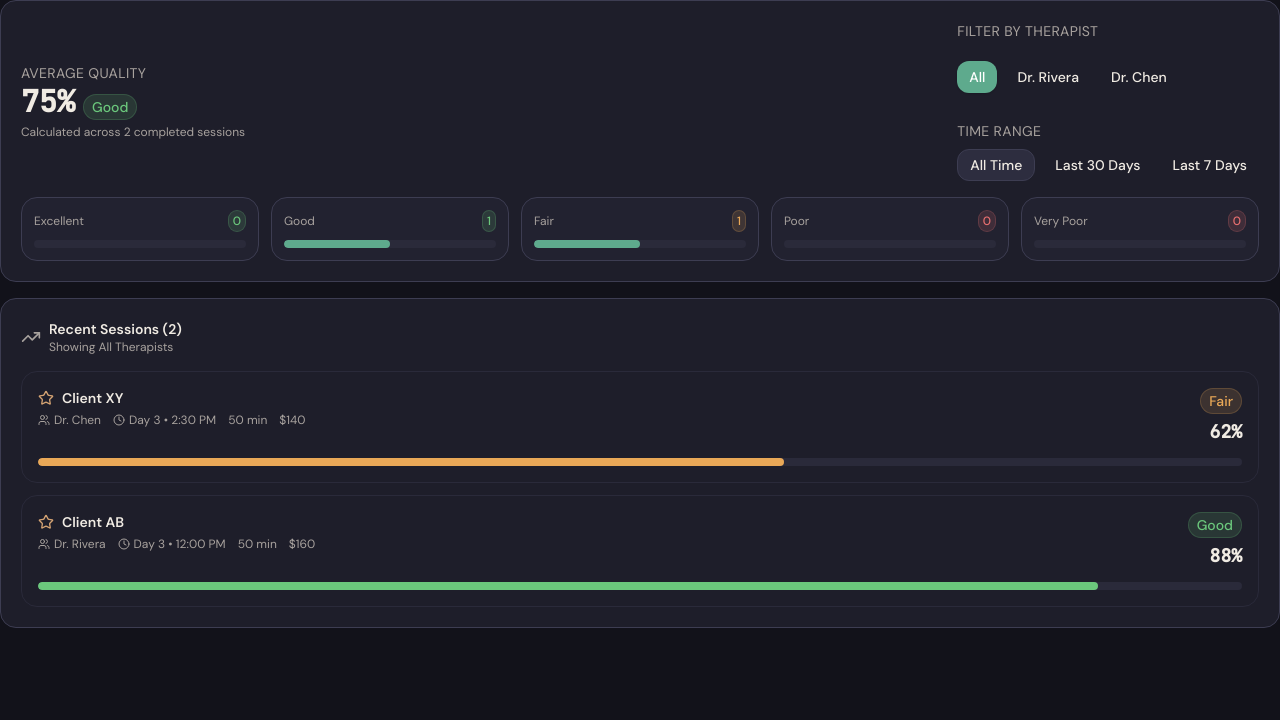
Test case: SessionHistoryPanel › therapist filtering › resets to all therapists when clicking All
The width and height of the screenshot is (1280, 720).
First filter to one therapist
Click the button "Dr. Chen": (1139, 77) left=1099, top=61, right=1179, bottom=93
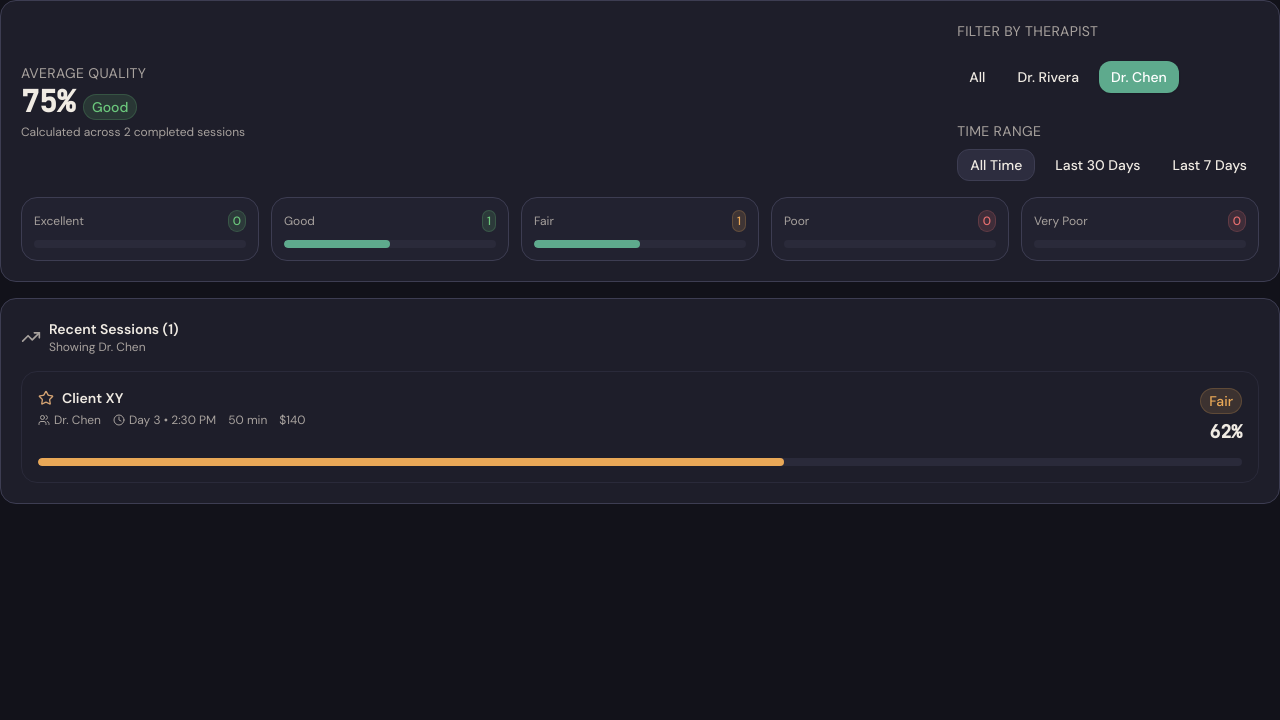
Expected: the text "Client AB" is gone
Then reset to all
Click the button "All": (977, 77) left=957, top=61, right=997, bottom=93
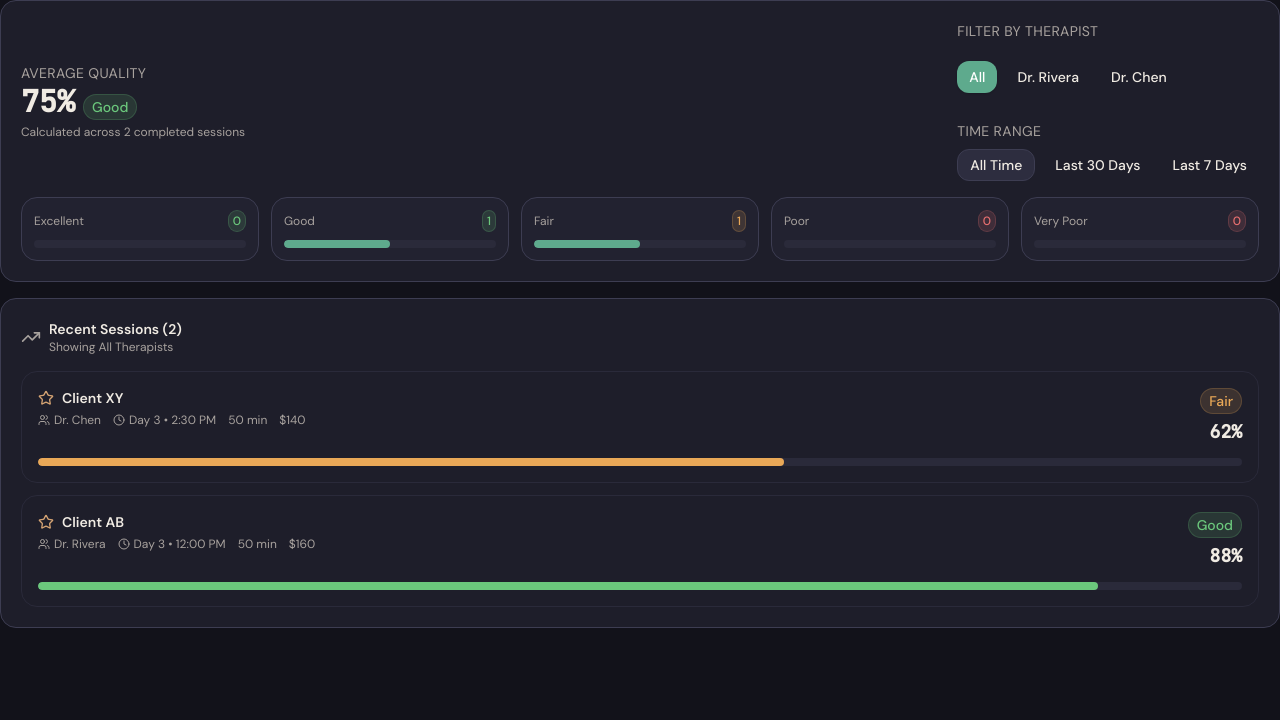
Expected: the text "Client XY" is shown, left=62, top=388, right=123, bottom=408
Expected: the text "Client AB" is shown, left=62, top=512, right=124, bottom=532
